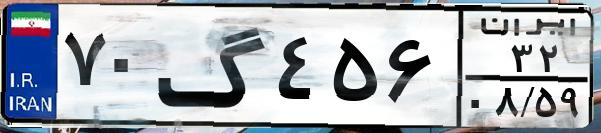0: (110, 28, 156, 98), (470, 70, 495, 125)
2: (537, 27, 568, 80)
3: (508, 27, 537, 80)
4: (270, 28, 330, 110)
5: (330, 28, 385, 110), (535, 70, 560, 125)
6: (385, 28, 445, 110)
7: (57, 26, 110, 100)
8: (495, 70, 520, 125)
9: (560, 70, 590, 125)
گ: (156, 12, 270, 120)
